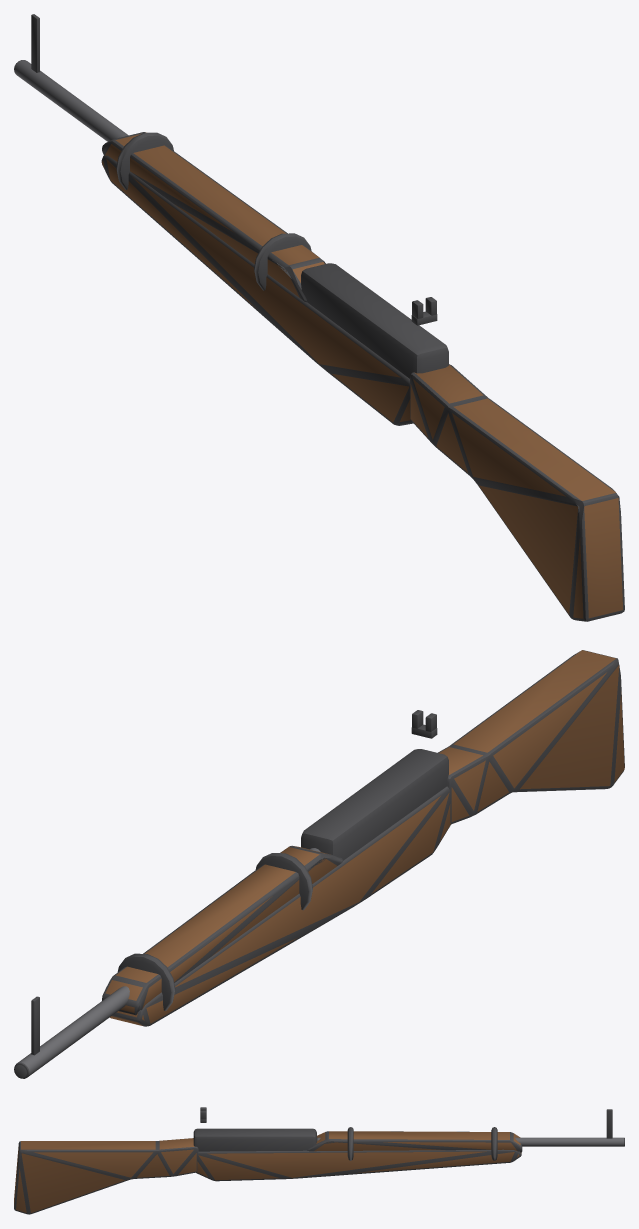
The model's file is garand.glb.
The picture shows the model from 3 angles, top to bottom: view 1: azimuth 30°, elevation 25°; view 2: azimuth 150°, elevation 25°; view 3: azimuth 270°, elevation 25°; orthographic projection. The views are drawn at different scales.
Visible parts, largest first — view 1: garand_LOD0; view 2: garand_LOD0; view 3: garand_LOD0.
Boxes of the visible parts, x1,y1,x2,y2 form: garand_LOD0: (14, 14, 624, 621); garand_LOD0: (14, 650, 624, 1078); garand_LOD0: (14, 1107, 624, 1214).
Size of the model in its own units: 0.0682 by 0.2157 by 1.19.
